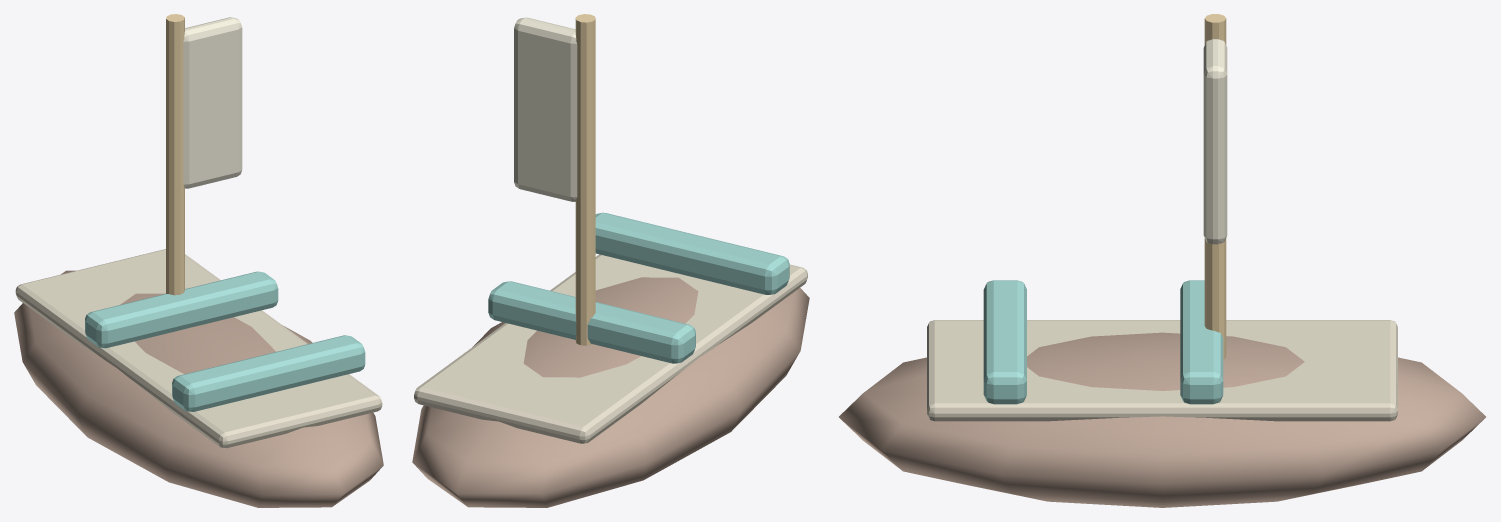
Rendered from boat.glb.
3 views of the same model, side by side, from view 1: azimuth 30°, elevation 25°; view 2: azimuth 150°, elevation 25°; view 3: azimuth 270°, elevation 25° (orthographic). The views are drawn at different scales.
Visible parts, largest first — view 1: boat_Salvaged_teak, boat_Warm_limestone, boat_Enamel_jade, boat_Pearl_edge, boat_Diver_brass; view 2: boat_Salvaged_teak, boat_Warm_limestone, boat_Enamel_jade, boat_Pearl_edge, boat_Diver_brass; view 3: boat_Salvaged_teak, boat_Warm_limestone, boat_Enamel_jade, boat_Pearl_edge, boat_Diver_brass.
Part boxes in pixels (x1,y1,x2,y2): boat_Salvaged_teak: [14, 270, 383, 507]; boat_Warm_limestone: [15, 249, 382, 448]; boat_Enamel_jade: [85, 271, 365, 411]; boat_Pearl_edge: [183, 17, 242, 188]; boat_Diver_brass: [166, 14, 184, 295]; boat_Salvaged_teak: [412, 277, 809, 507]; boat_Warm_limestone: [414, 254, 807, 443]; boat_Enamel_jade: [488, 212, 789, 363]; boat_Pearl_edge: [514, 17, 577, 201]; boat_Diver_brass: [575, 14, 595, 345]; boat_Salvaged_teak: [839, 332, 1485, 507]; boat_Warm_limestone: [927, 320, 1397, 421]; boat_Enamel_jade: [983, 280, 1223, 404]; boat_Pearl_edge: [1203, 39, 1227, 244]; boat_Diver_brass: [1204, 14, 1226, 359].
Bounding box in the file's own units: 1.6 × 2.59 × 3.3.
